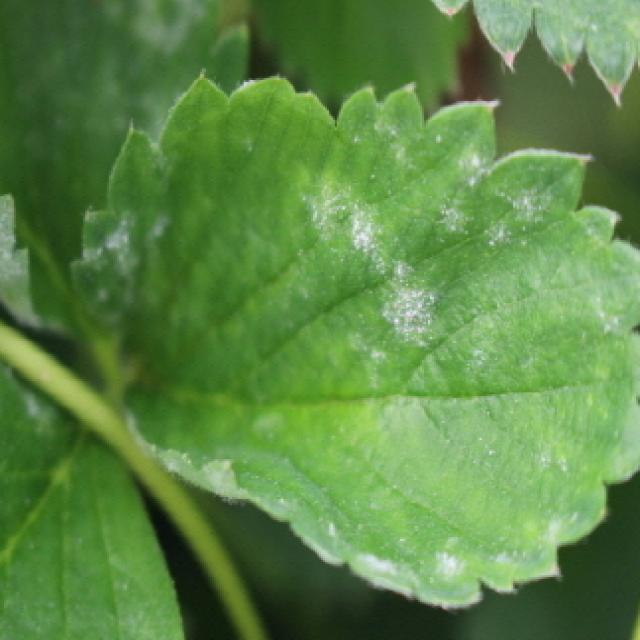Powdery Mildew Leaf: (64, 73, 640, 608), (0, 340, 186, 640)
